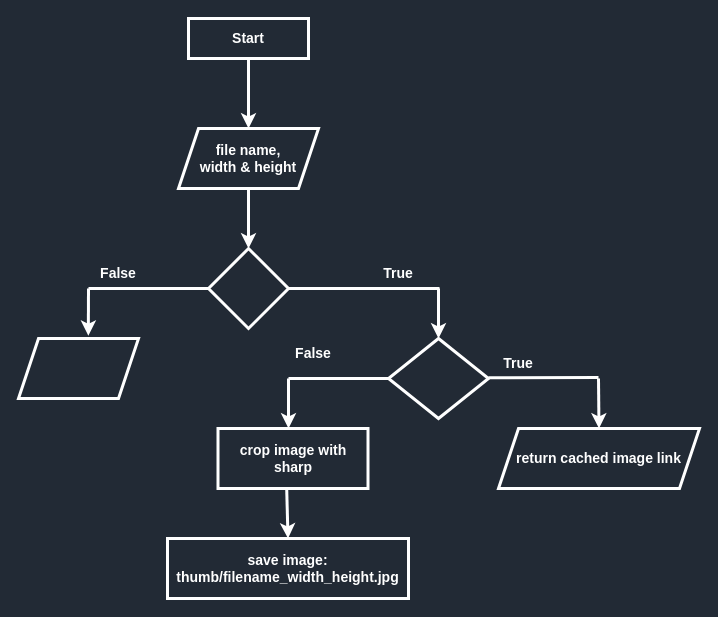
Some shapes in this 718 by 617 pixel diagram are drawn without their labels. The shapes that lost their labels are listed below. From the top down, each one's centre as x and y in pixels, then its label:
At (248,288): "valid input?".
At (78,368): "return error".
At (438,378): "Image exist?".
